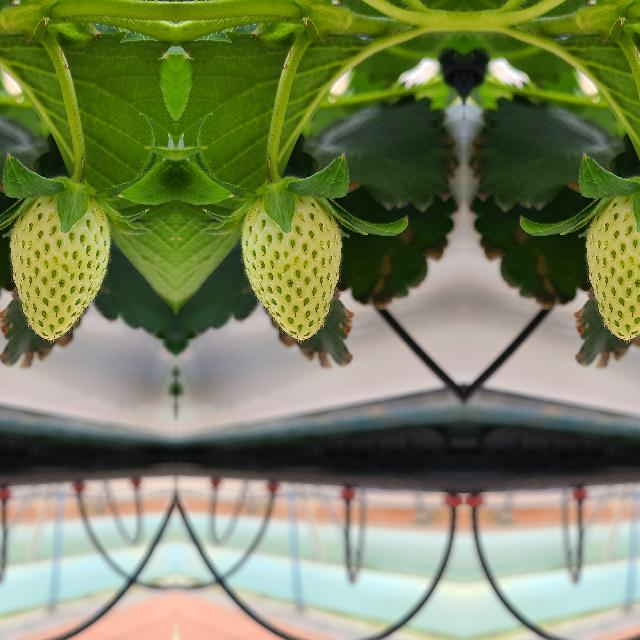Health_25: (240, 193, 340, 339), (10, 193, 110, 339), (586, 193, 640, 339)
